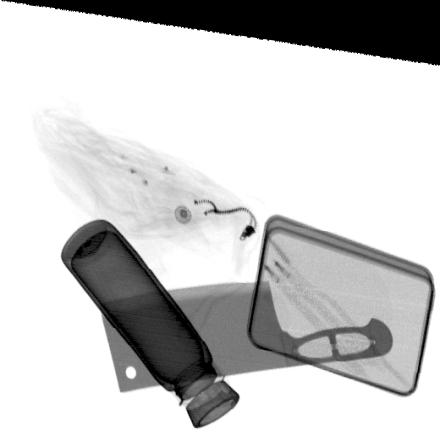Knife: (98, 272, 394, 391)
